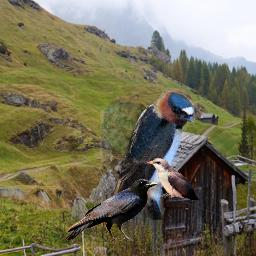Crow: (64, 178, 157, 241)
Cuckoo: (145, 158, 200, 201)
Swallow: (100, 90, 195, 220)
